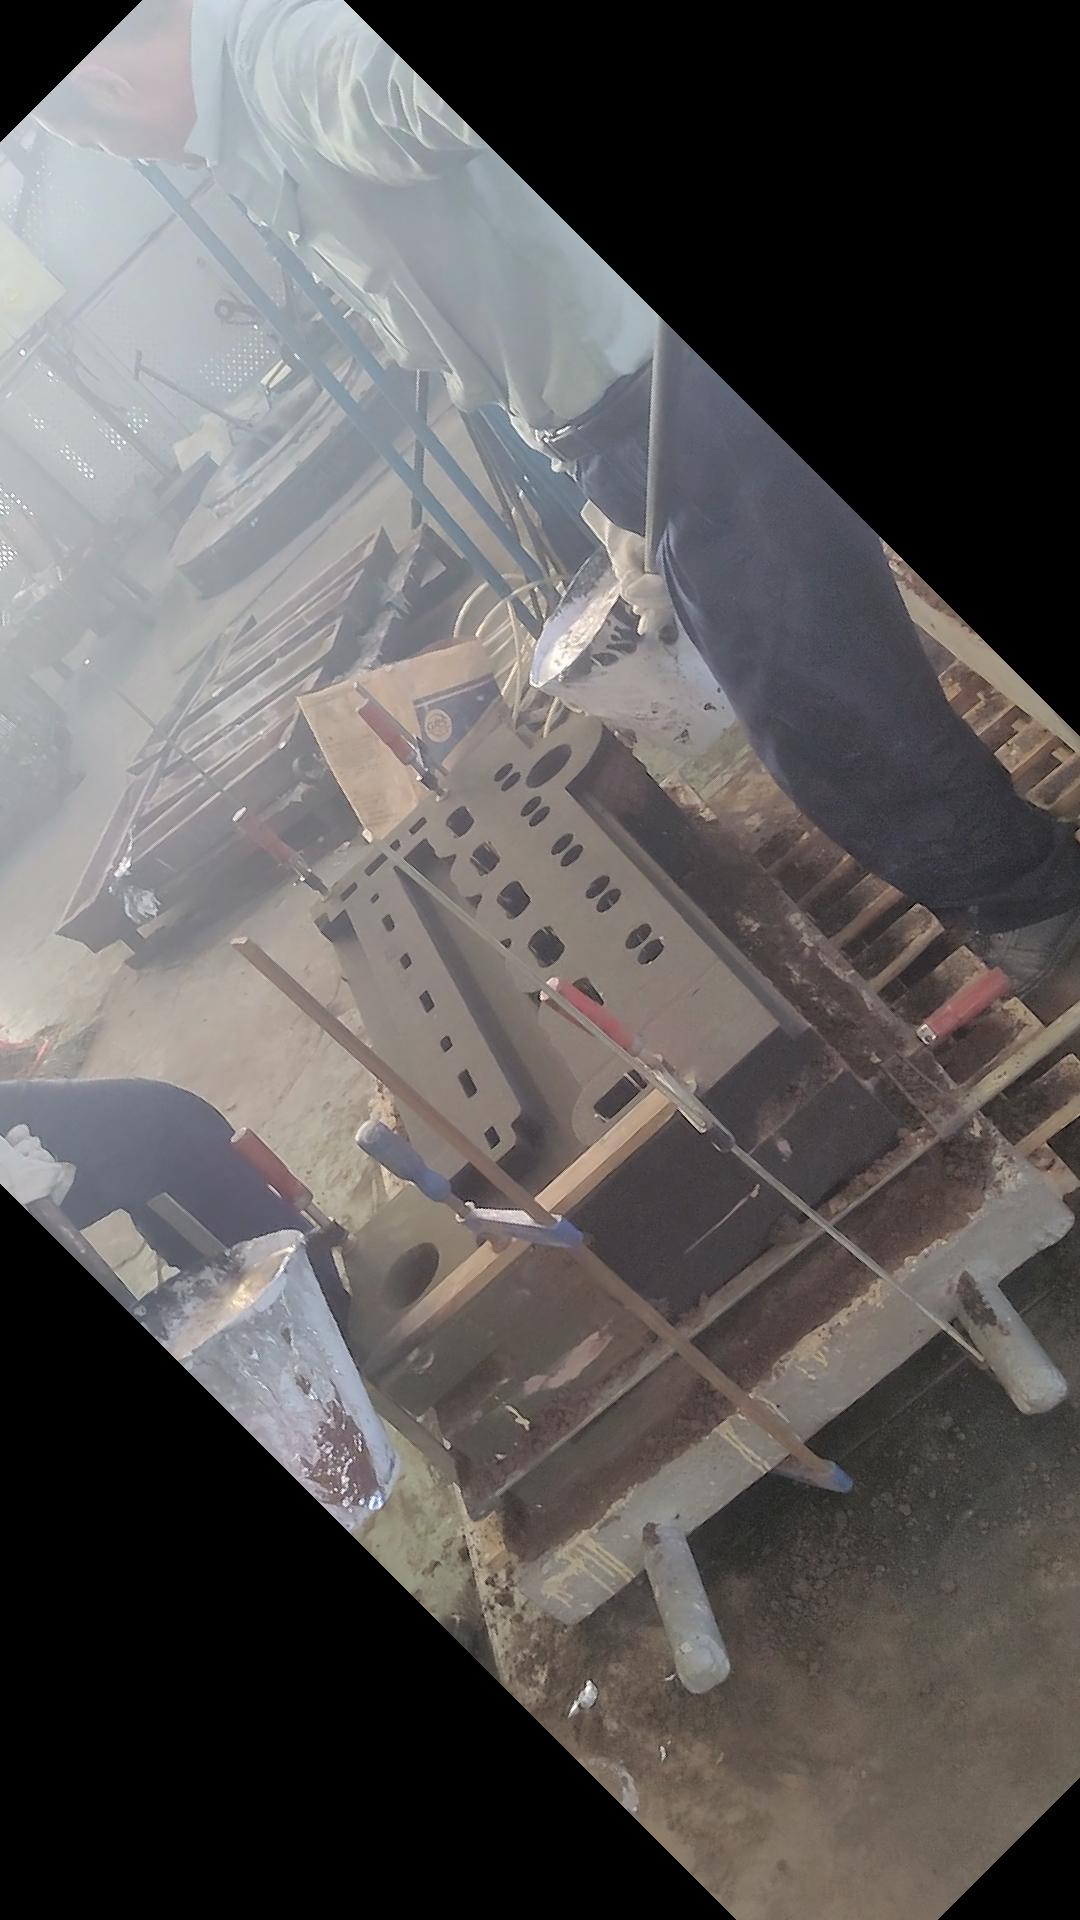pouring hole: (378, 1244, 440, 1309), (526, 742, 572, 789)
